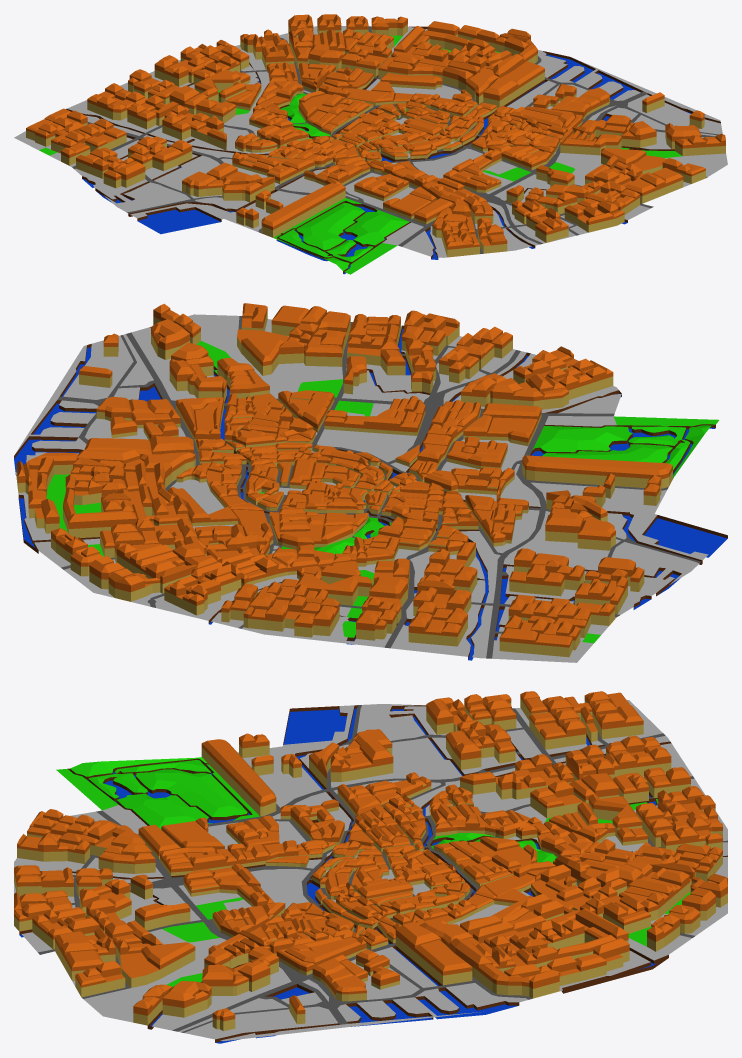
Rendered from groningen1.13.fbx.
The picture shows the model from 3 angles, top to bottom: view 1: azimuth 30°, elevation 25°; view 2: azimuth 150°, elevation 25°; view 3: azimuth 270°, elevation 25°; orthographic projection. The views are drawn at different scales.
Visible parts, largest first — view 1: Plane; view 2: Plane; view 3: Plane.
Boxes of the visible parts, left/top/right/bottom form: Plane: left=14, top=14, right=727, bottom=274; Plane: left=14, top=303, right=727, bottom=662; Plane: left=14, top=691, right=727, bottom=1043.
Bounding box in the file's own units: 10076 × 342 × 8911.
